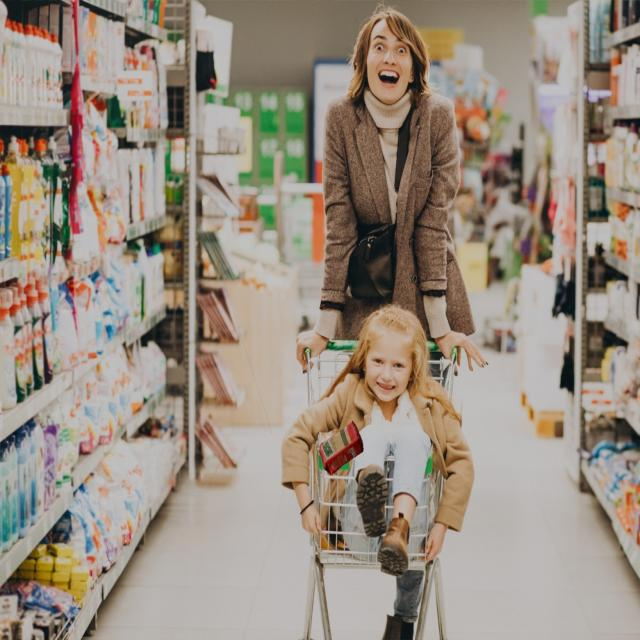mate bag: (317, 424, 363, 471)
